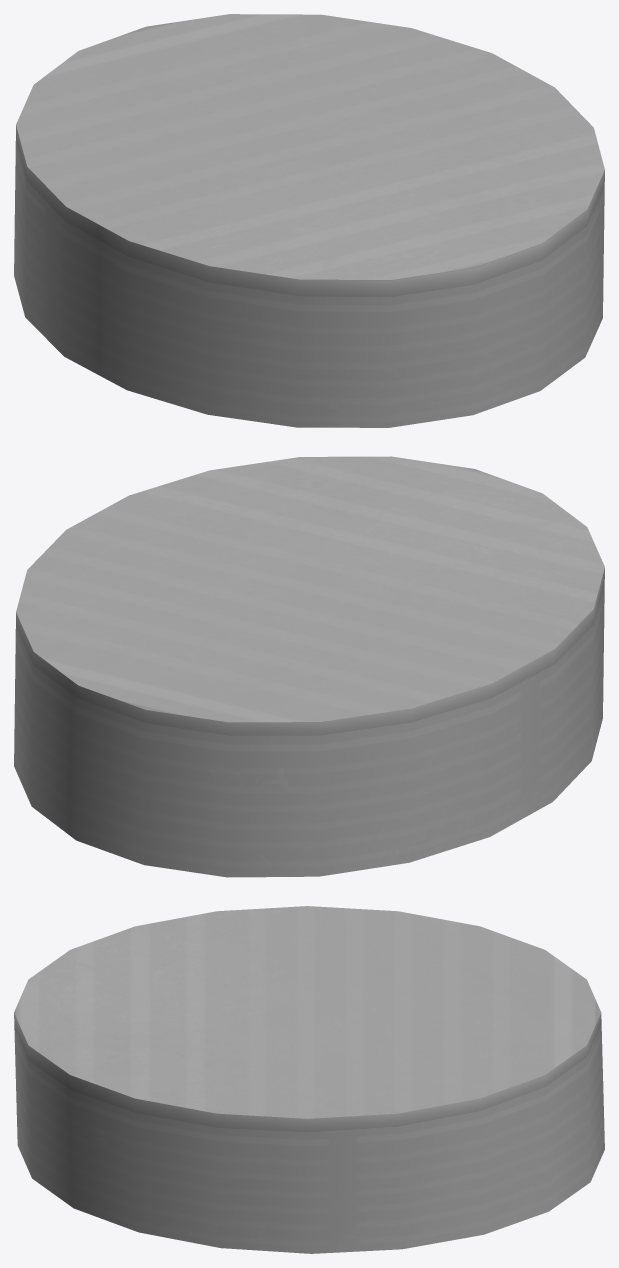
Rendered from circularTowerA.fbx.
3 renders of one model, top to bottom at view 1: azimuth 30°, elevation 25°; view 2: azimuth 150°, elevation 25°; view 3: azimuth 270°, elevation 25°, orthographic. The views are drawn at different scales.
Parts seen in each view (by area): view 1: circularTowerA; view 2: circularTowerA; view 3: circularTowerA.
Part boxes in pixels (x1,y1,x2,y2): circularTowerA: (14,14,604,427); circularTowerA: (14,456,604,877); circularTowerA: (14,906,604,1253).
Bounding box in the file's own units: 2807 × 843 × 3295.
